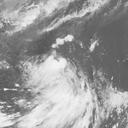cyclone: (22, 55, 97, 123)
